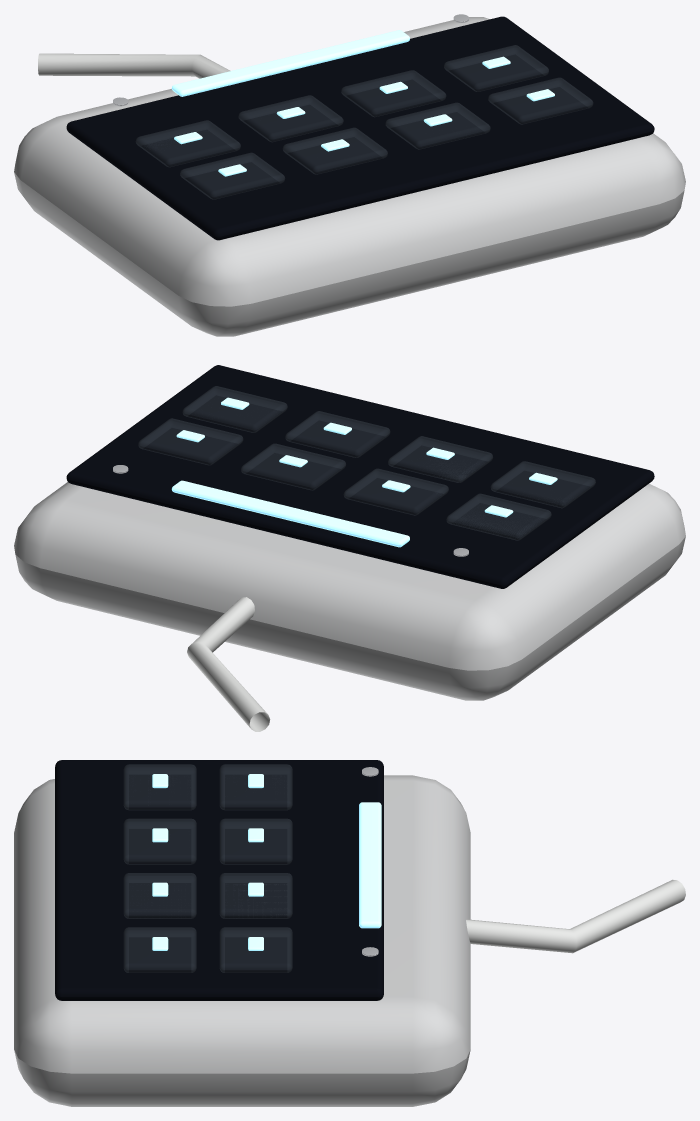
Rendered from p2s_video_so_ong_elgato_stream_deck_neo.glb.
The picture shows the model from 3 angles, top to bottom: view 1: azimuth 30°, elevation 25°; view 2: azimuth 150°, elevation 25°; view 3: azimuth 270°, elevation 25°; orthographic projection. The views are drawn at different scales.
Visible parts, largest first — view 1: stream_deck_wedge_body, stream_deck_black_top_face, stream_deck_fixed_usb_cable, stream_deck_infobar, stream_deck_lcd_key_0_3, stream_deck_lcd_key_0_1, stream_deck_lcd_key_0_2, stream_deck_lcd_key_1_1, stream_deck_lcd_key_1_3, stream_deck_lcd_key_0_0, stream_deck_lcd_key_1_0, stream_deck_lcd_key_1_2; view 2: stream_deck_wedge_body, stream_deck_black_top_face, stream_deck_fixed_usb_cable, stream_deck_infobar, stream_deck_lcd_key_1_3, stream_deck_lcd_key_1_0, stream_deck_lcd_key_1_1, stream_deck_lcd_key_0_3, stream_deck_lcd_key_0_1, stream_deck_lcd_key_0_0, stream_deck_lcd_key_0_2, stream_deck_lcd_key_1_2; view 3: stream_deck_black_top_face, stream_deck_wedge_body, stream_deck_fixed_usb_cable, stream_deck_lcd_key_0_1, stream_deck_lcd_key_1_1, stream_deck_lcd_key_0_0, stream_deck_lcd_key_1_0, stream_deck_lcd_key_0_2, stream_deck_lcd_key_1_2, stream_deck_lcd_key_0_3, stream_deck_lcd_key_1_3, stream_deck_infobar.
Part boxes in pixels (x1=…): stream_deck_wedge_body: x1=14, y1=17, x2=685, y2=336; stream_deck_black_top_face: x1=66, y1=16, x2=654, y2=240; stream_deck_fixed_usb_cable: x1=38, y1=53, x2=230, y2=78; stream_deck_infobar: x1=171, y1=30, x2=409, y2=96; stream_deck_lcd_key_0_3: x1=488, y1=77, x2=593, y2=124; stream_deck_lcd_key_0_1: x1=282, y1=127, x2=387, y2=174; stream_deck_lcd_key_0_2: x1=385, y1=102, x2=490, y2=149; stream_deck_lcd_key_1_1: x1=238, y1=95, x2=343, y2=142; stream_deck_lcd_key_1_3: x1=444, y1=45, x2=548, y2=91; stream_deck_lcd_key_0_0: x1=180, y1=152, x2=285, y2=199; stream_deck_lcd_key_1_0: x1=135, y1=120, x2=240, y2=167; stream_deck_lcd_key_1_2: x1=341, y1=70, x2=446, y2=117; stream_deck_wedge_body: x1=14, y1=482, x2=685, y2=700; stream_deck_black_top_face: x1=66, y1=365, x2=654, y2=588; stream_deck_fixed_usb_cable: x1=187, y1=597, x2=270, y2=731; stream_deck_infobar: x1=171, y1=480, x2=409, y2=547; stream_deck_lcd_key_1_3: x1=138, y1=418, x2=243, y2=465; stream_deck_lcd_key_1_0: x1=446, y1=493, x2=551, y2=540; stream_deck_lcd_key_1_1: x1=343, y1=468, x2=448, y2=515; stream_deck_lcd_key_0_3: x1=182, y1=386, x2=287, y2=432; stream_deck_lcd_key_0_1: x1=388, y1=436, x2=492, y2=482; stream_deck_lcd_key_0_0: x1=490, y1=461, x2=595, y2=508; stream_deck_lcd_key_0_2: x1=285, y1=411, x2=390, y2=457; stream_deck_lcd_key_1_2: x1=241, y1=443, x2=345, y2=490; stream_deck_black_top_face: x1=55, y1=760, x2=383, y2=1000; stream_deck_wedge_body: x1=14, y1=775, x2=470, y2=1106; stream_deck_fixed_usb_cable: x1=466, y1=879, x2=685, y2=953; stream_deck_lcd_key_0_1: x1=123, y1=818, x2=196, y2=864; stream_deck_lcd_key_1_1: x1=219, y1=818, x2=292, y2=864; stream_deck_lcd_key_0_0: x1=123, y1=764, x2=196, y2=810; stream_deck_lcd_key_1_0: x1=219, y1=764, x2=292, y2=810; stream_deck_lcd_key_0_2: x1=123, y1=873, x2=196, y2=918; stream_deck_lcd_key_1_2: x1=219, y1=873, x2=292, y2=918; stream_deck_lcd_key_0_3: x1=123, y1=927, x2=196, y2=972; stream_deck_lcd_key_1_3: x1=219, y1=927, x2=292, y2=972; stream_deck_infobar: x1=359, y1=802, x2=381, y2=928.
Bounding box in the file's own units: 0.107 × 0.0251 × 0.1147.
